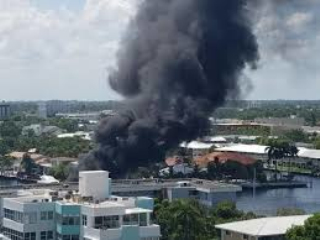smoke: (78, 4, 251, 175)
